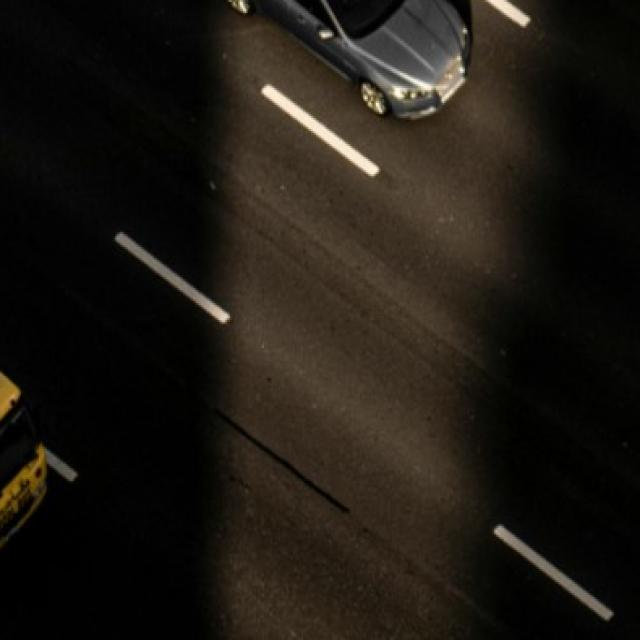bus: (0, 127, 52, 571)
car: (203, 0, 473, 124)
